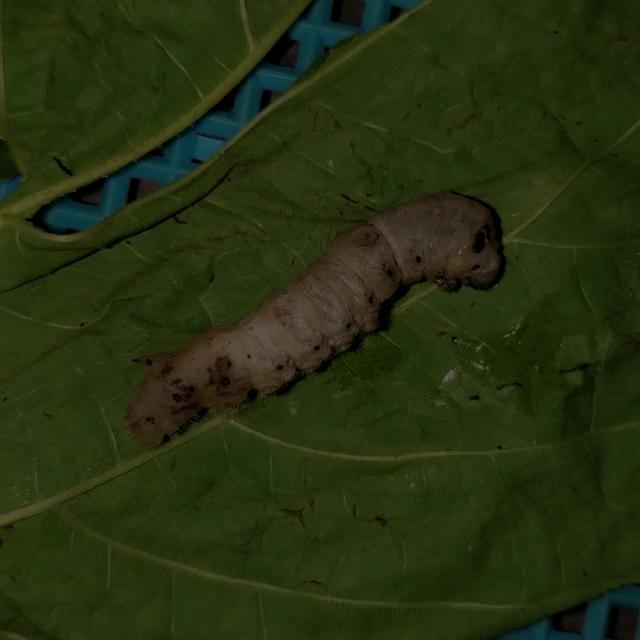Grasserie: (119, 182, 512, 454)
